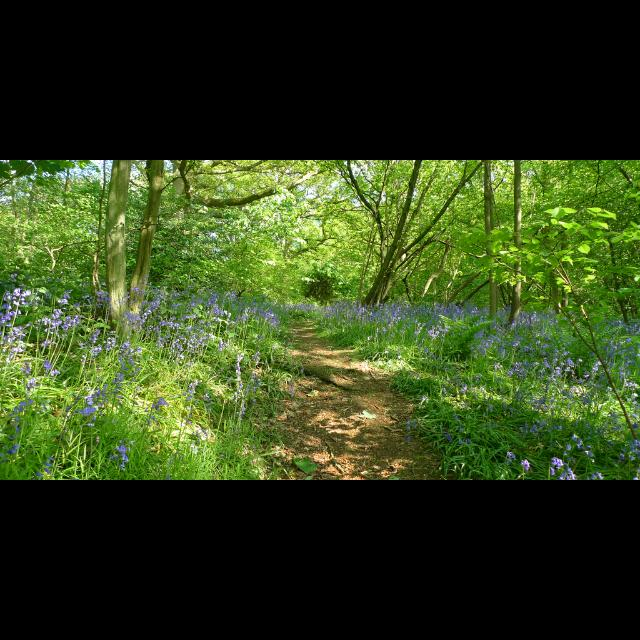Flower: (1, 288, 640, 480), (84, 397, 92, 403)
